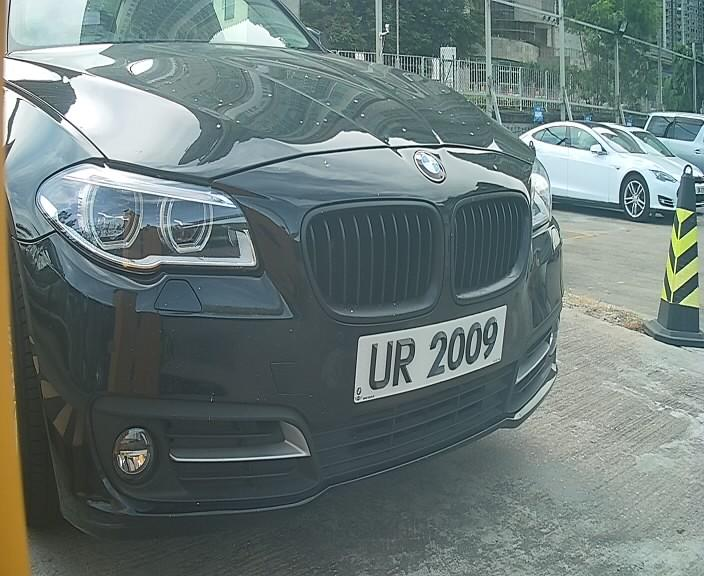License Plate: (343, 301, 500, 407)
